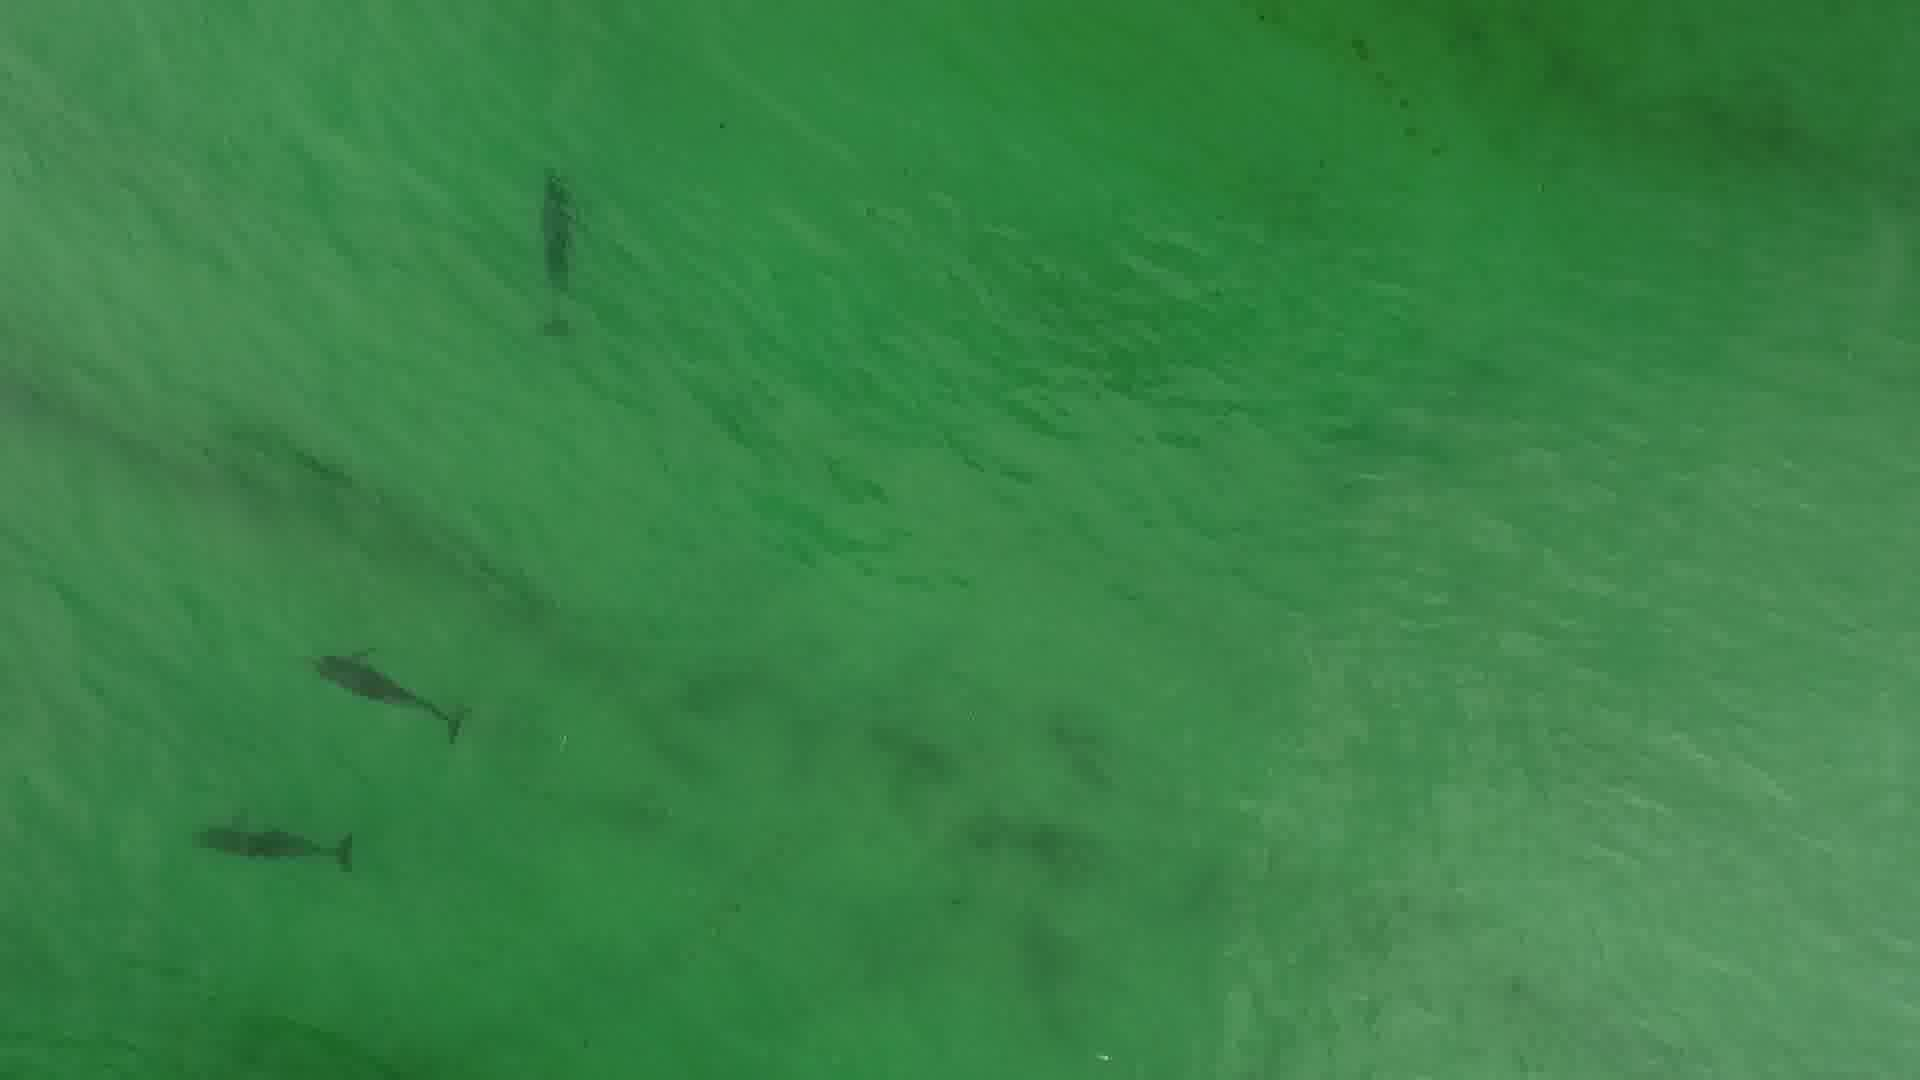dolphin: (284, 611, 477, 752), (501, 152, 609, 353), (170, 791, 371, 887)
